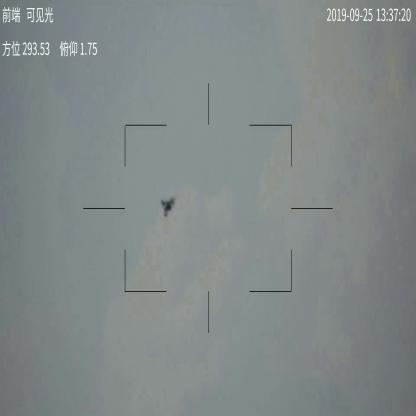uav: (159, 196, 177, 221)
